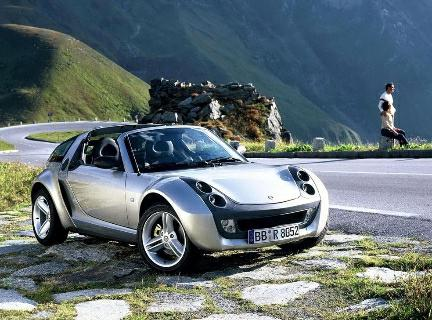smart-roadster: (30, 121, 335, 270)
